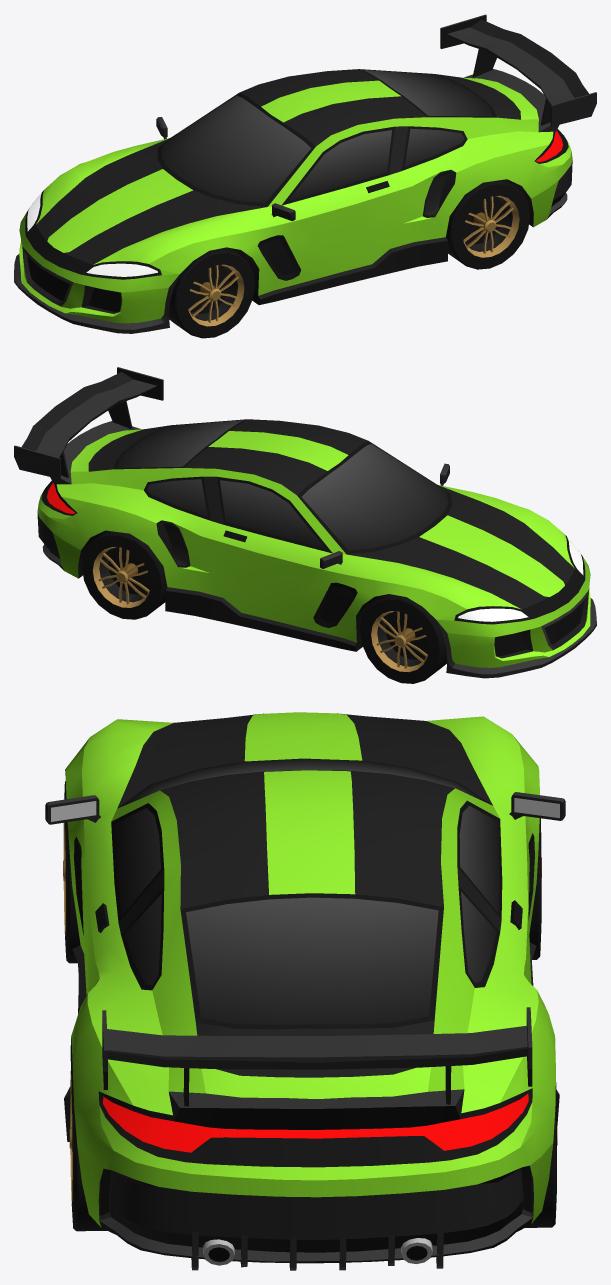
The model's file is RaceCar_062.glb.
The picture shows the model from 3 angles, top to bottom: view 1: azimuth 30°, elevation 25°; view 2: azimuth 150°, elevation 25°; view 3: azimuth 270°, elevation 25°; orthographic projection. The views are drawn at different scales.
Visible parts, largest first — view 1: RaceCar_062, wheel_3_RaceCar_062_Wheel_3R, wheel_0_RaceCar_062_Wheel_1R; view 2: RaceCar_062, wheel_2_RaceCar_062_Wheel_3L, wheel_1_RaceCar_062_Wheel_2L; view 3: RaceCar_062, wheel_0_RaceCar_062_Wheel_1R, wheel_3_RaceCar_062_Wheel_3R, wheel_1_RaceCar_062_Wheel_2L, wheel_2_RaceCar_062_Wheel_3L.
Boxes of the visible parts, left/top/right/bottom form: RaceCar_062: left=14, top=14, right=596, bottom=333; wheel_3_RaceCar_062_Wheel_3R: left=169, top=247, right=254, bottom=338; wheel_0_RaceCar_062_Wheel_1R: left=446, top=179, right=530, bottom=269; RaceCar_062: left=14, top=367, right=596, bottom=678; wheel_2_RaceCar_062_Wheel_3L: left=360, top=594, right=447, bottom=683; wheel_1_RaceCar_062_Wheel_2L: left=82, top=530, right=167, bottom=619; RaceCar_062: left=45, top=712, right=565, bottom=1270; wheel_0_RaceCar_062_Wheel_1R: left=69, top=1050, right=107, bottom=1231; wheel_3_RaceCar_062_Wheel_3R: left=63, top=781, right=80, bottom=963; wheel_1_RaceCar_062_Wheel_2L: left=525, top=1082, right=557, bottom=1227; wheel_2_RaceCar_062_Wheel_3L: left=529, top=818, right=541, bottom=959.
Size of the model in its own units: 4.76 by 1.37 by 2.08.
3 materials, 3 textured.
